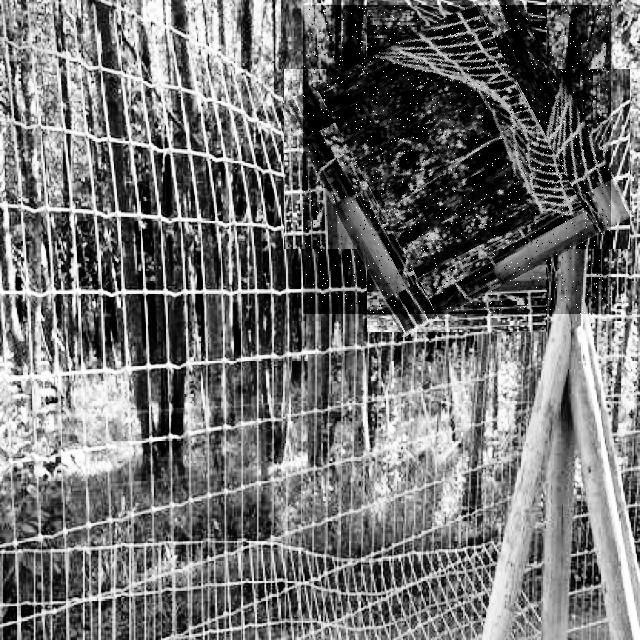anomaly-fence: (303, 5, 611, 314)
